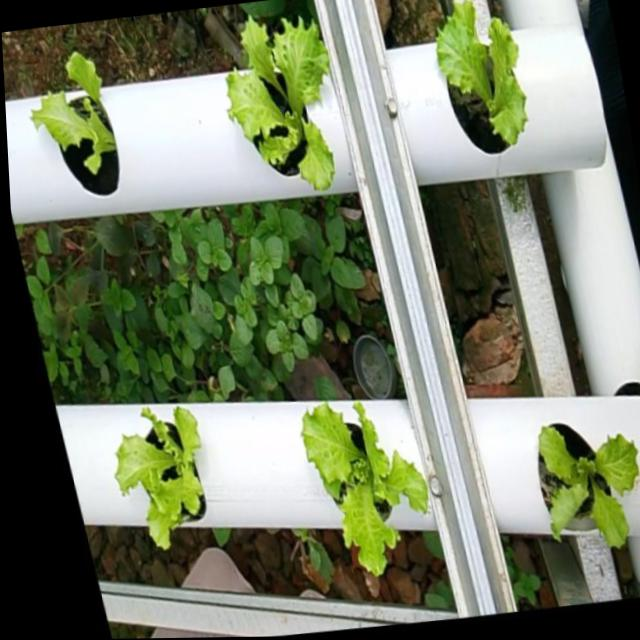Baby: (303, 396, 429, 570), (227, 2, 335, 187), (435, 0, 526, 149), (538, 416, 639, 541), (119, 404, 207, 546), (34, 52, 121, 195)
